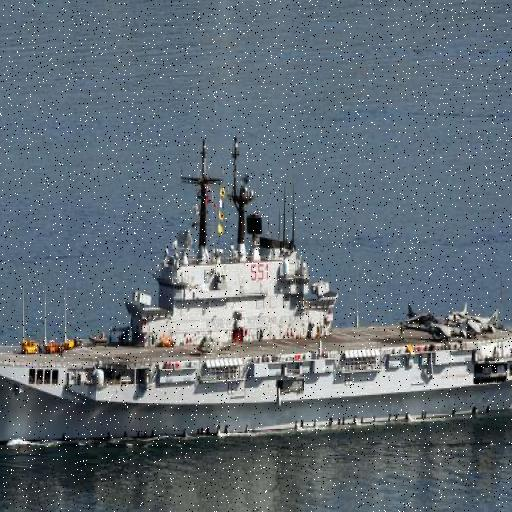Portanaves: (1, 136, 512, 446)
